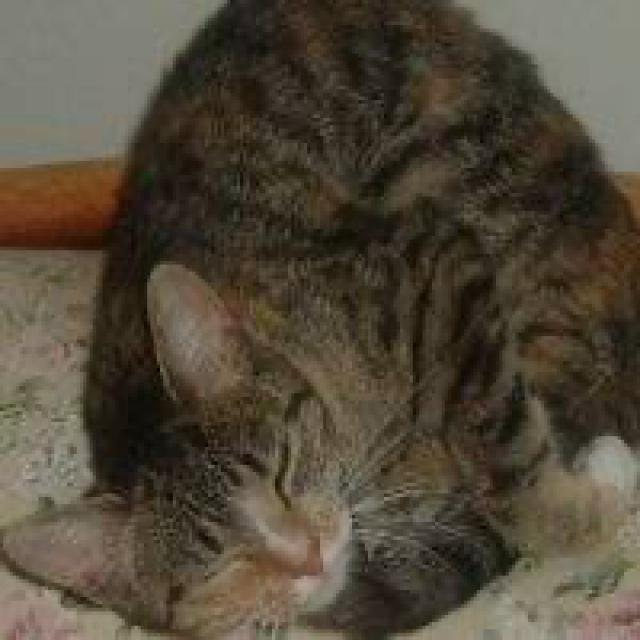cat: (0, 257, 349, 633)
